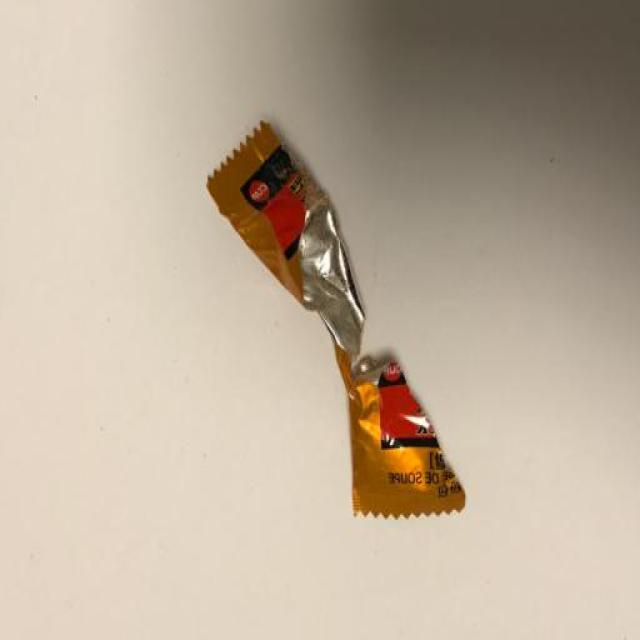Random Trash: (208, 120, 466, 517)
